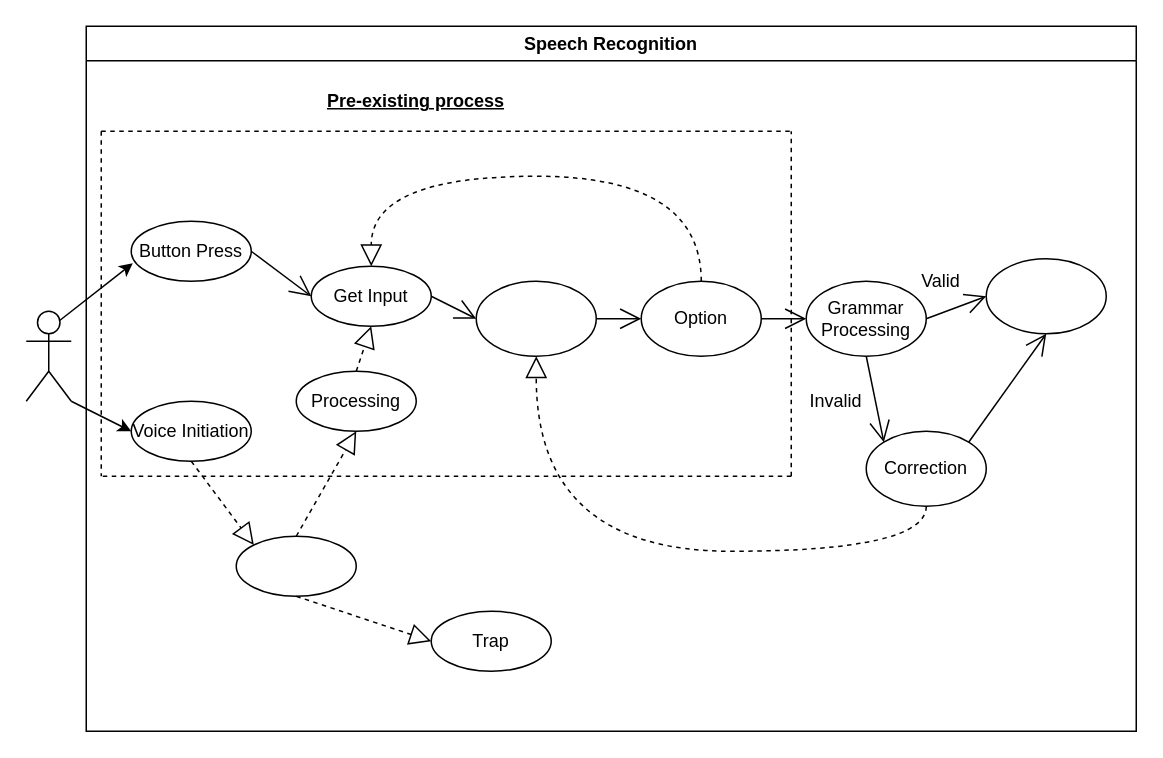
The diagram is 1163 pixels wide and 758 high, and some of its shapes have lost their labels. The shapes that lost their labels are listed below. From the top down, each one's centre as x and y in pixels, then its label:
At point 1045,295: "Output".
At point 535,318: "Input Processing".
At point 48,355: "User".
At point 295,565: "Voice Check".
